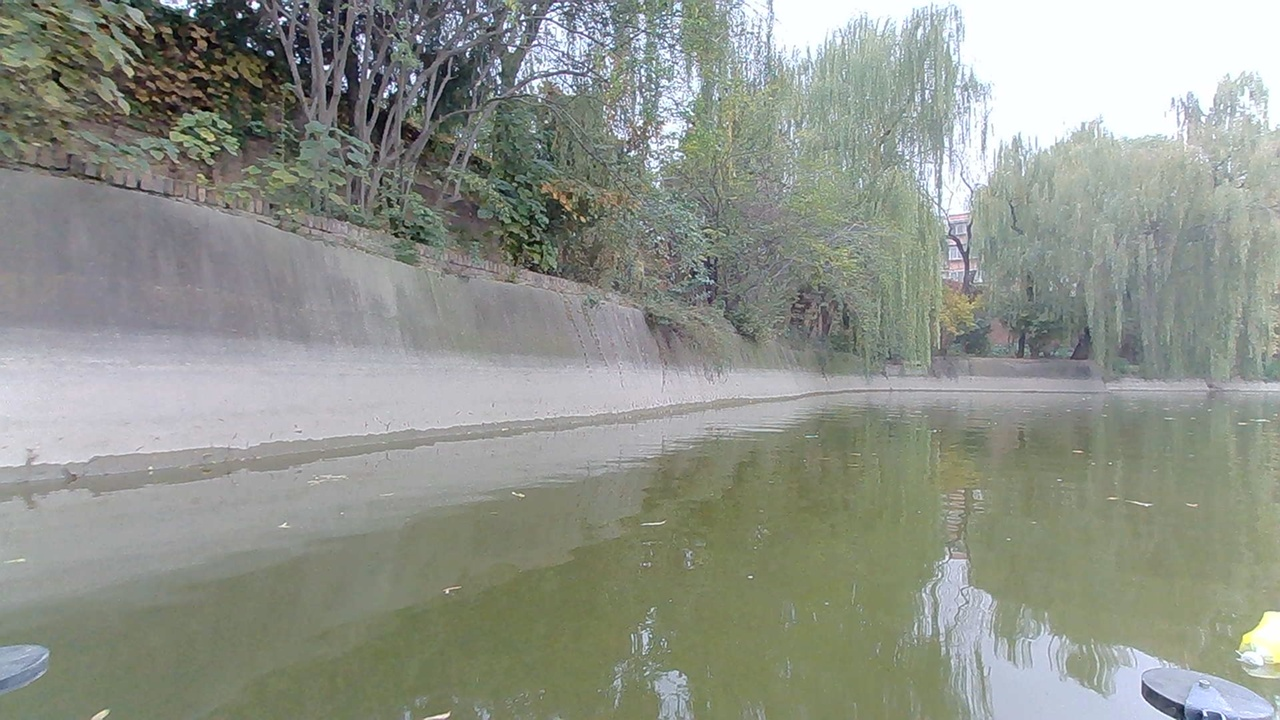bottle: (1235, 610, 1280, 663)
